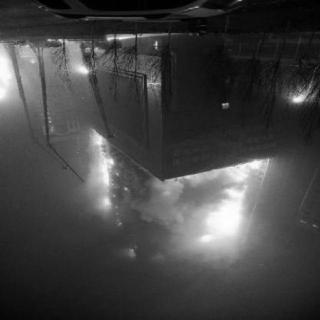other: (2, 51, 40, 106), (65, 60, 103, 83), (286, 91, 312, 110)
